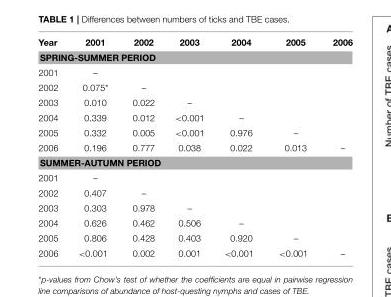table: (37, 37, 351, 257)
table column: (265, 37, 319, 257), (67, 37, 119, 257), (213, 37, 265, 257), (164, 37, 213, 257), (119, 37, 164, 257), (319, 37, 351, 257), (37, 37, 67, 257)
table projected row header: (37, 49, 351, 64), (37, 155, 351, 170)
table row: (37, 79, 351, 95), (37, 49, 351, 64), (37, 64, 351, 79), (37, 95, 351, 110), (37, 110, 351, 125), (37, 125, 351, 140), (37, 140, 351, 155), (37, 155, 351, 170), (37, 170, 351, 185), (37, 185, 351, 200), (37, 200, 351, 215), (37, 215, 351, 230), (37, 230, 351, 245), (37, 37, 351, 49), (37, 245, 351, 257)
